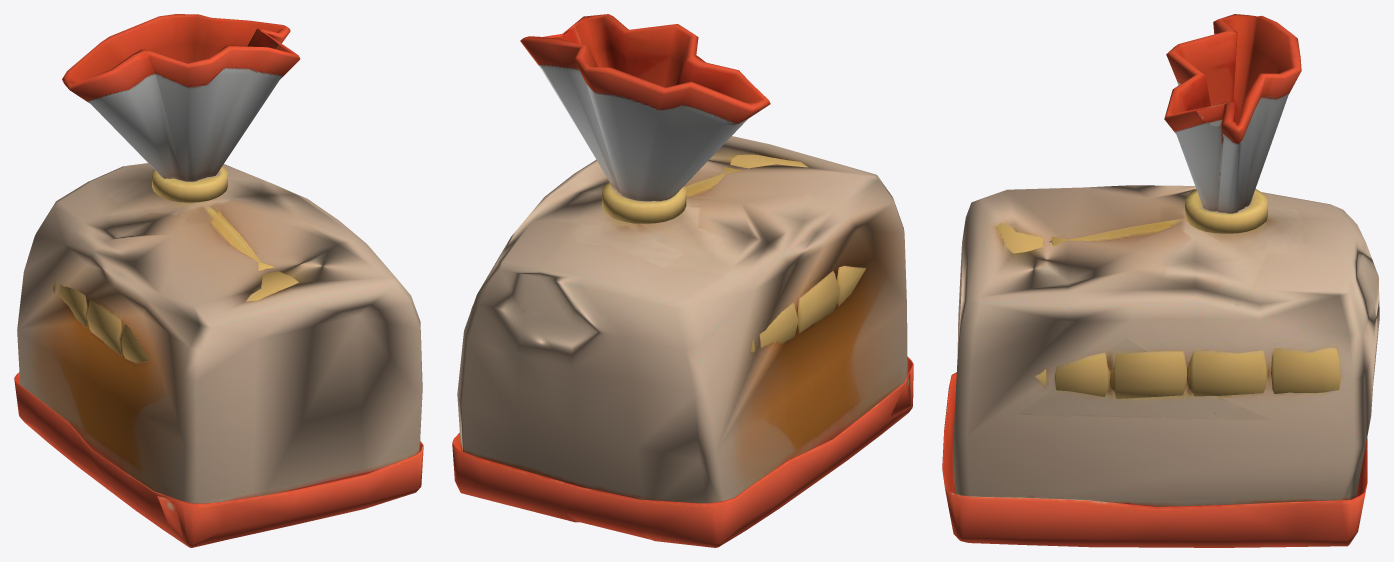
The model's file is bread.glb.
3 renders of one model, left to right at view 1: azimuth 30°, elevation 25°; view 2: azimuth 150°, elevation 25°; view 3: azimuth 270°, elevation 25°, orthographic. The views are drawn at different scales.
Parts seen in each view (by area): view 1: Bread; view 2: Bread; view 3: Bread.
Part boxes in pixels (x1,y1,x2,y2): Bread: [14, 14, 423, 547]; Bread: [452, 14, 913, 547]; Bread: [942, 14, 1379, 547].
Bounding box in the file's own units: 0.6855 × 0.998 × 0.9082.
1 material, 1 textured.
